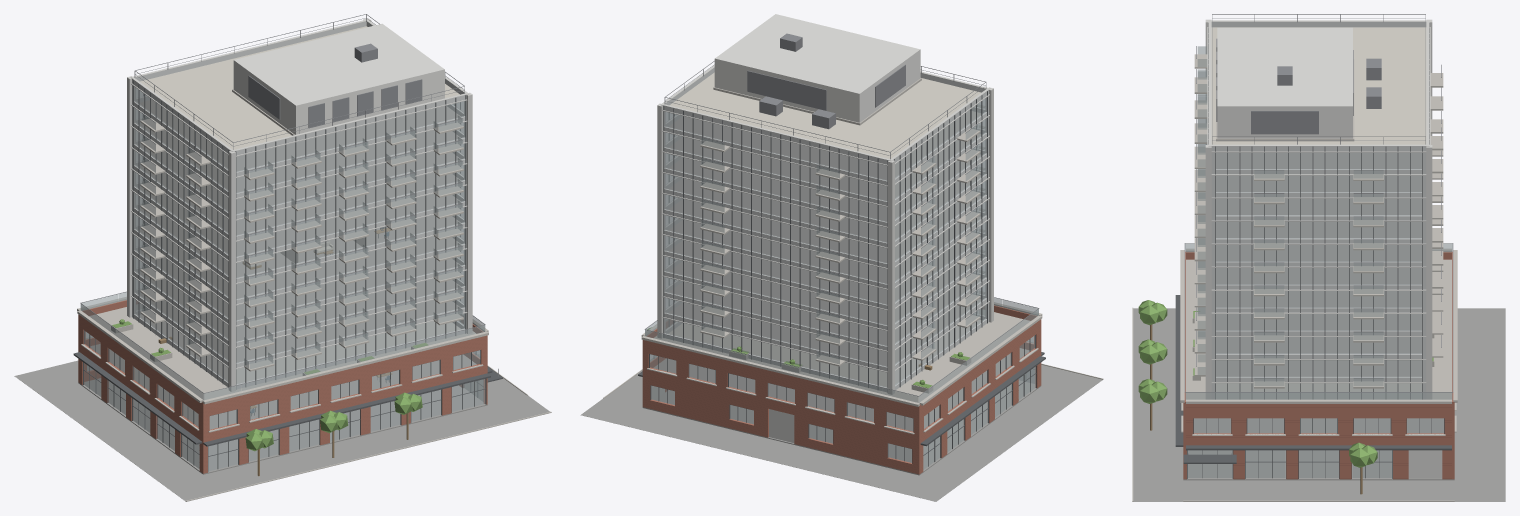
Rendered from clay-brick-podium-condo-tower-clay-v004.glb.
3 views of the same model, side by side, from view 1: azimuth 30°, elevation 25°; view 2: azimuth 150°, elevation 25°; view 3: azimuth 270°, elevation 25° (orthographic). The views are drawn at different scales.
Visible parts, largest first — view 1: CLAY_GLASS, CLAY_FLOOR, CLAY_SPANDREL, CLAY_FOUNDATION, CLAY_TRIM, CLAY_WALL, CLAY_CONCRETE, CLAY_METAL, CLAY_PALE, CLAY_SAND, CLAY_HARDWARE, CLAY_MEMBRANE (+2 smaller); view 2: CLAY_GLASS, CLAY_FLOOR, CLAY_SPANDREL, CLAY_WALL, CLAY_FOUNDATION, CLAY_TRIM, CLAY_METAL, CLAY_PALE, CLAY_MEMBRANE, CLAY_CONCRETE, CLAY_SAND, CLAY_HARDWARE (+1 smaller); view 3: CLAY_GLASS, CLAY_FLOOR, CLAY_FOUNDATION, CLAY_SPANDREL, CLAY_METAL, CLAY_CONCRETE, CLAY_WALL, CLAY_PALE, CLAY_TRIM, CLAY_MEMBRANE, CLAY_SAND, CLAY_HARDWARE (+3 smaller).
Boxes of the visible parts, box(x1,y1,x2,y2) form: CLAY_GLASS: box(80, 87, 485, 470); CLAY_FLOOR: box(90, 100, 476, 429); CLAY_SPANDREL: box(132, 21, 466, 389); CLAY_FOUNDATION: box(14, 360, 549, 501); CLAY_TRIM: box(73, 80, 502, 471); CLAY_WALL: box(78, 300, 487, 473); CLAY_CONCRETE: box(111, 89, 463, 375); CLAY_METAL: box(233, 23, 444, 134); CLAY_PALE: box(127, 18, 472, 391); CLAY_SAND: box(89, 304, 476, 400); CLAY_HARDWARE: box(80, 14, 498, 393); CLAY_MEMBRANE: box(140, 26, 459, 149); CLAY_GLASS: box(645, 98, 1038, 469); CLAY_FLOOR: box(653, 110, 1029, 431); CLAY_SPANDREL: box(663, 68, 988, 392); CLAY_WALL: box(642, 305, 1041, 474); CLAY_FOUNDATION: box(580, 364, 1102, 501); CLAY_TRIM: box(638, 91, 1045, 466); CLAY_METAL: box(714, 14, 920, 122); CLAY_PALE: box(651, 65, 993, 442); CLAY_MEMBRANE: box(669, 72, 980, 158); CLAY_CONCRETE: box(700, 78, 984, 393); CLAY_SAND: box(654, 309, 1030, 402); CLAY_HARDWARE: box(644, 33, 1039, 396); CLAY_GLASS: box(1185, 46, 1452, 477); CLAY_FLOOR: box(1194, 152, 1443, 433); CLAY_FOUNDATION: box(1133, 308, 1505, 501); CLAY_SPANDREL: box(1211, 22, 1426, 399); CLAY_METAL: box(1217, 27, 1352, 138); CLAY_CONCRETE: box(1192, 54, 1443, 388); CLAY_WALL: box(1183, 251, 1454, 479); CLAY_PALE: box(1205, 19, 1442, 478); CLAY_TRIM: box(1175, 23, 1451, 478); CLAY_MEMBRANE: box(1211, 27, 1426, 144); CLAY_SAND: box(1186, 259, 1451, 399); CLAY_HARDWARE: box(1184, 14, 1453, 461).
Bounding box in the file's own units: 54 × 48.2 × 44.
